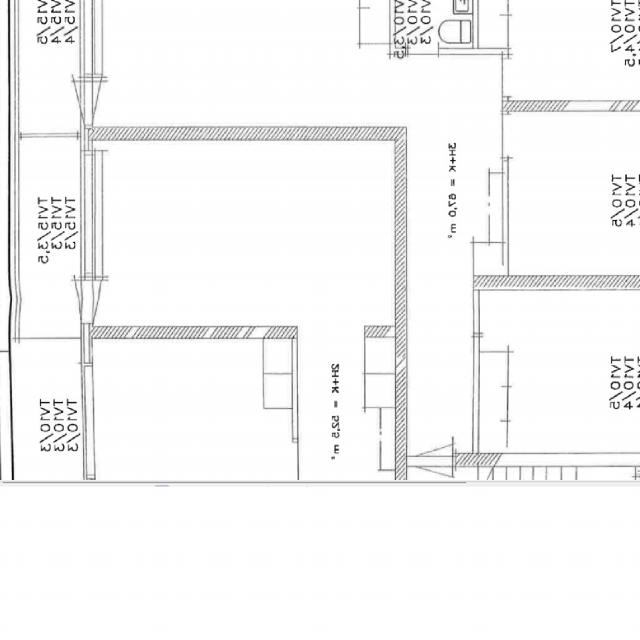door: (42, 80, 92, 124), (80, 80, 130, 124), (418, 452, 453, 507), (418, 411, 453, 466)
